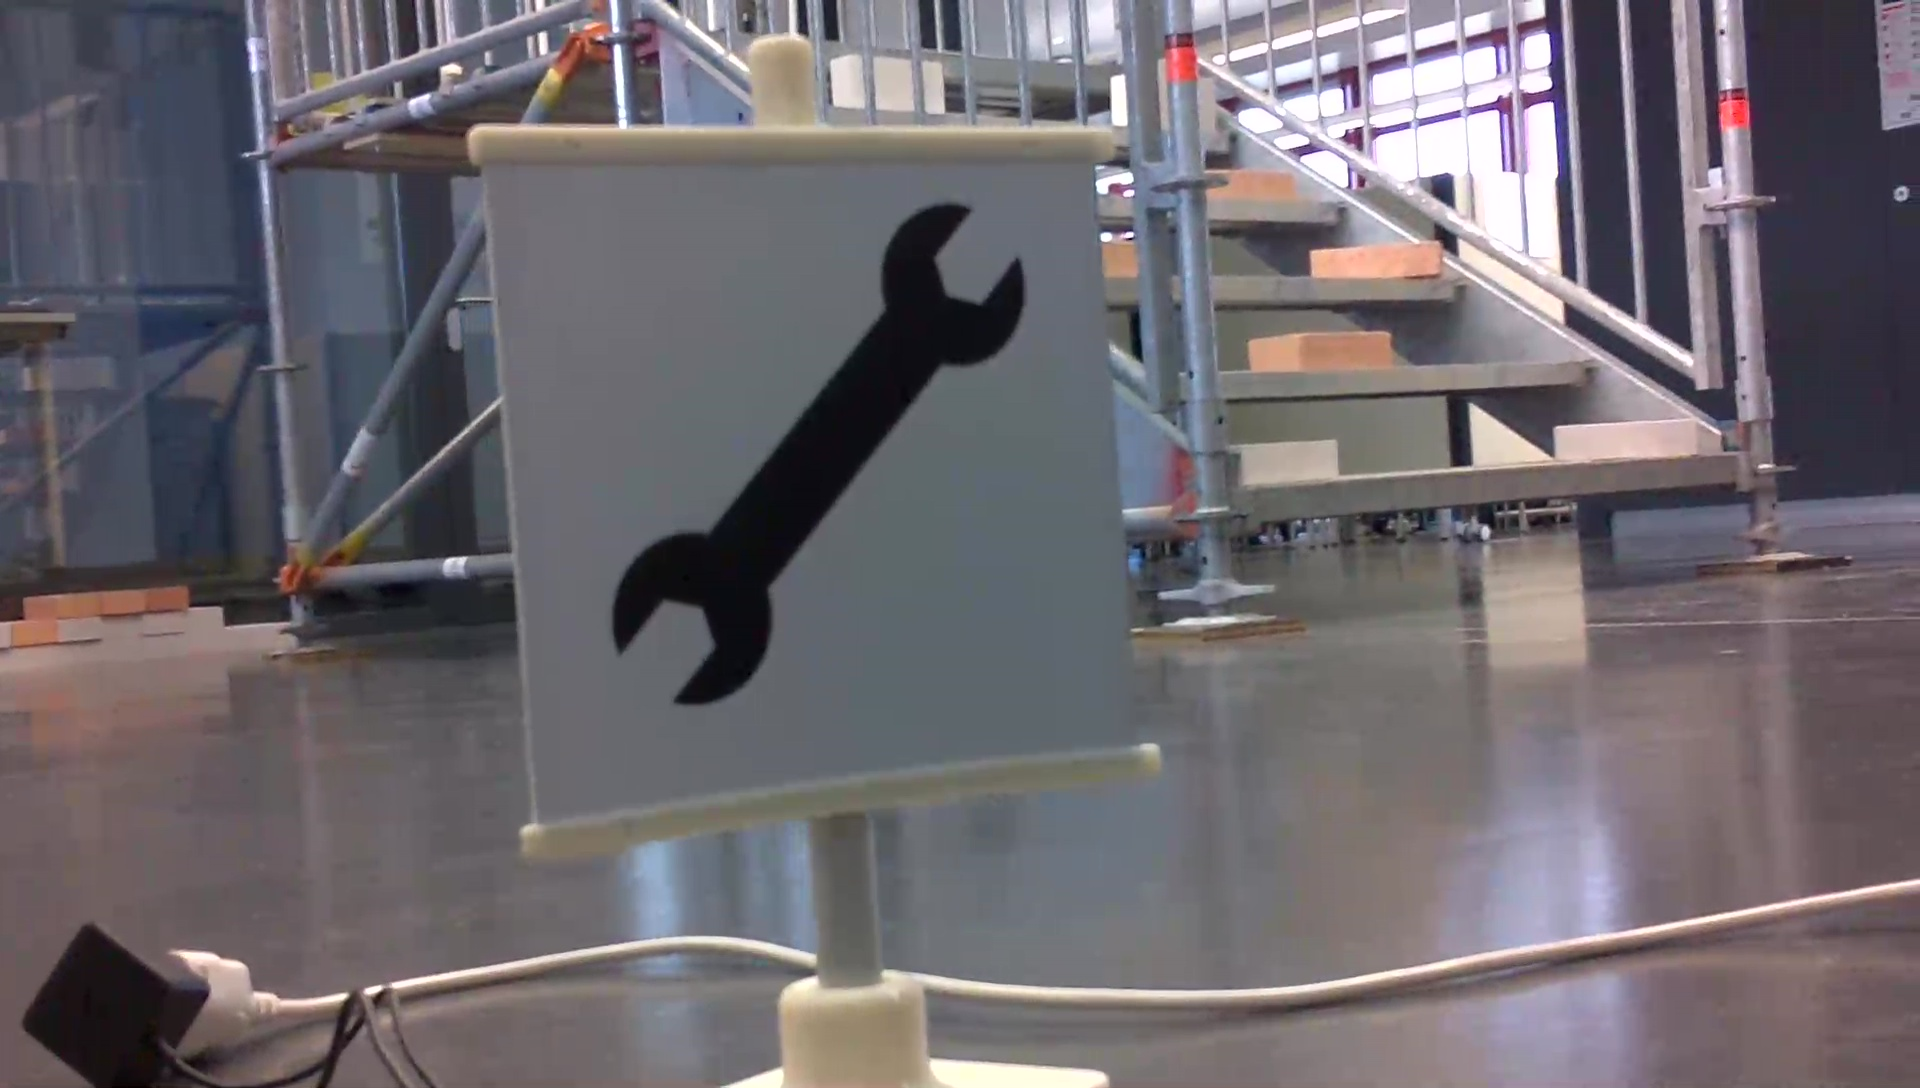brick: (1557, 421, 1692, 458), (1247, 334, 1389, 368), (1312, 243, 1440, 276), (1242, 443, 1336, 479), (1207, 170, 1294, 198), (1195, 80, 1216, 135)
edge: (1245, 455, 1739, 525), (1211, 355, 1596, 400), (1209, 273, 1470, 299), (1203, 196, 1353, 226)
wrench: (600, 193, 1033, 715)
